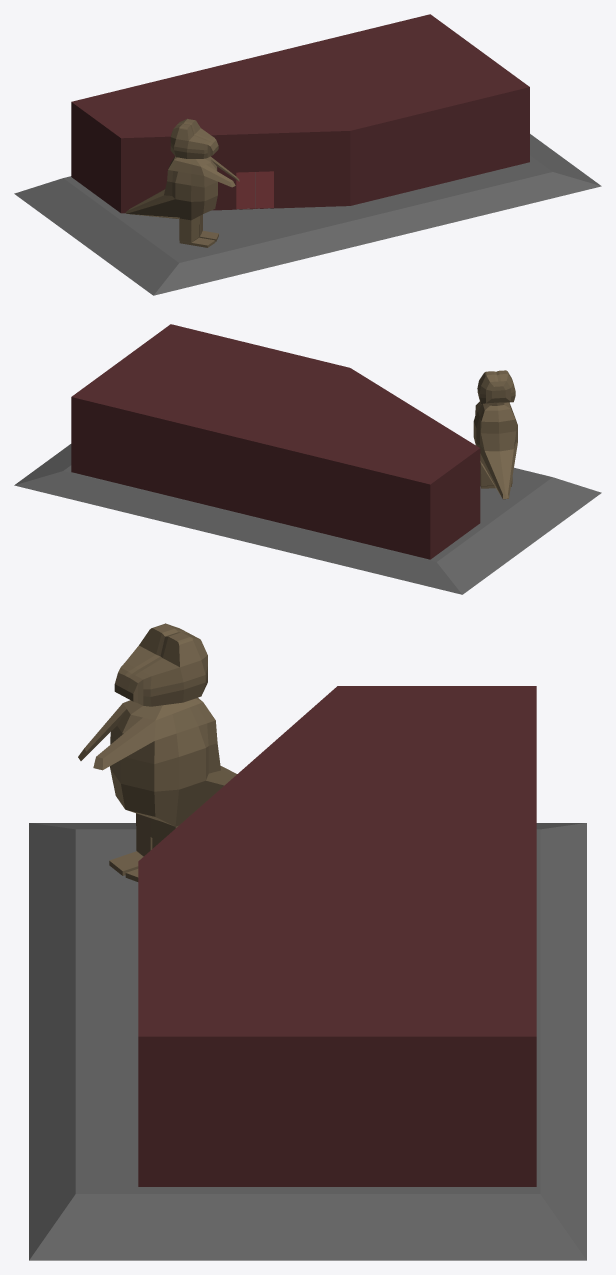
File: DinoRide.glb
3 views of the same model, one above another, from view 1: azimuth 30°, elevation 25°; view 2: azimuth 150°, elevation 25°; view 3: azimuth 270°, elevation 25° (orthographic). The views are drawn at different scales.
Parts seen in each view (by area): view 1: Cube.001, Cube, Cube.002; view 2: Cube.001, Cube, Cube.002; view 3: Cube.001, Cube, Cube.002.
Part boxes in pixels (left/top/right/bottom): Cube.001: left=71, top=14, right=529, bottom=213; Cube: left=14, top=134, right=601, bottom=295; Cube.002: left=125, top=118, right=239, bottom=247; Cube.001: left=71, top=324, right=480, bottom=559; Cube: left=14, top=444, right=601, bottom=594; Cube.002: left=473, top=370, right=517, bottom=499; Cube.001: left=138, top=686, right=536, bottom=1186; Cube: left=29, top=823, right=586, bottom=1260; Cube.002: left=78, top=623, right=236, bottom=881.
Size of the model in its own units: 31.22 by 8.59 by 16.81.
